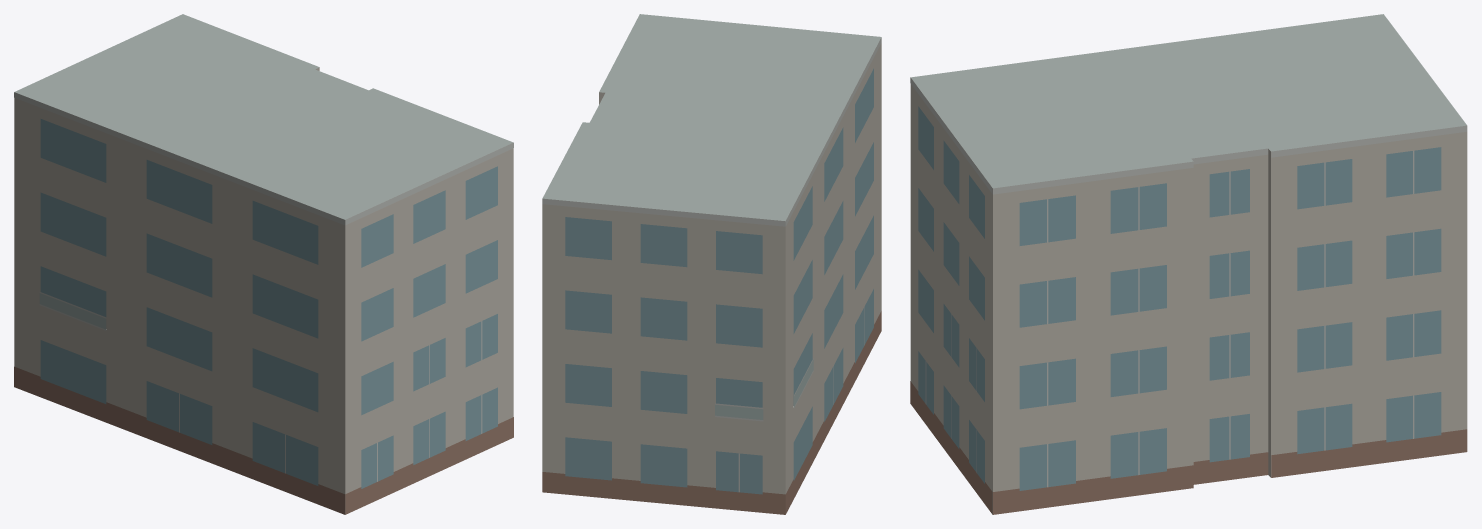
The model's file is survey-upis-32621756.glb.
3 views of the same model, side by side, from view 1: azimuth 30°, elevation 25°; view 2: azimuth 150°, elevation 25°; view 3: azimuth 270°, elevation 25° (orthographic). The views are drawn at different scales.
Parts seen in each view (by area): view 1: survey-upis-32621756.tmp; view 2: survey-upis-32621756.tmp; view 3: survey-upis-32621756.tmp.
Part boxes in pixels (x1,y1,x2,y2): survey-upis-32621756.tmp: [14, 14, 513, 514]; survey-upis-32621756.tmp: [542, 14, 881, 514]; survey-upis-32621756.tmp: [910, 14, 1467, 514].
Size of the model in its own units: 14.79 by 12.9 by 19.95.
